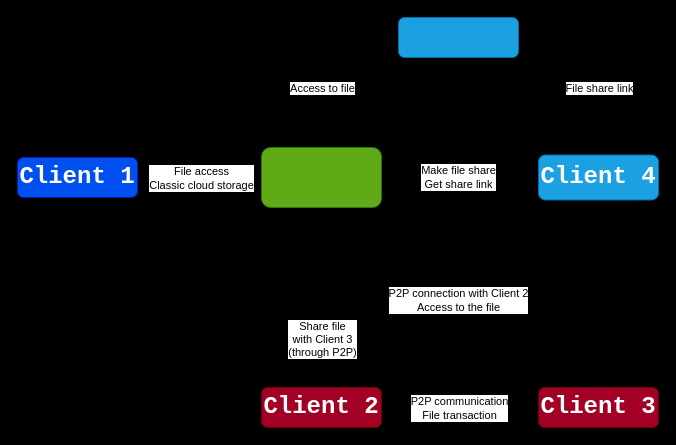
The diagram is 676 pixels wide and 445 high, and some of its shapes have lost their labels. The shapes that lost their labels are listed below. From the top down, each one's centre as x and y in pixels, then its label:
At [458,37]: "External file access".
At [321,177]: "Server".
